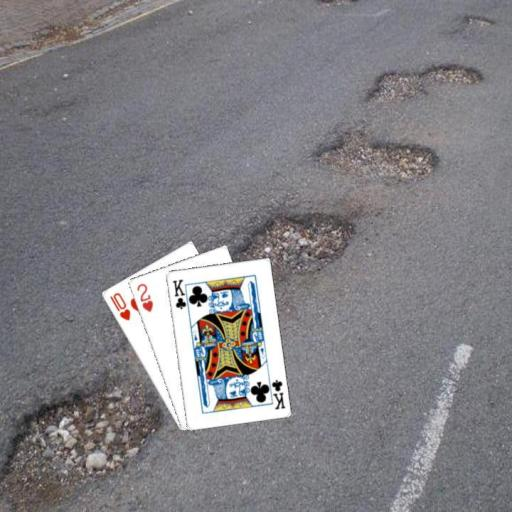10H: (106, 290, 132, 322)
2H: (134, 280, 154, 314)
KC: (169, 276, 191, 312), (265, 374, 287, 410)
